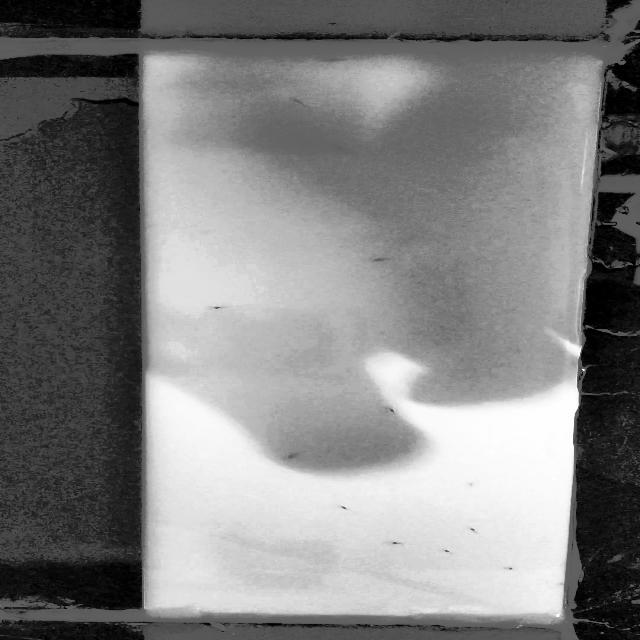shrimp: (307, 139, 364, 160), (276, 98, 330, 116), (311, 54, 360, 66), (360, 252, 395, 268), (374, 402, 405, 418), (272, 448, 306, 462), (329, 499, 358, 515), (383, 536, 409, 551), (430, 544, 460, 557), (498, 561, 522, 576), (202, 303, 240, 312), (465, 526, 483, 534)
